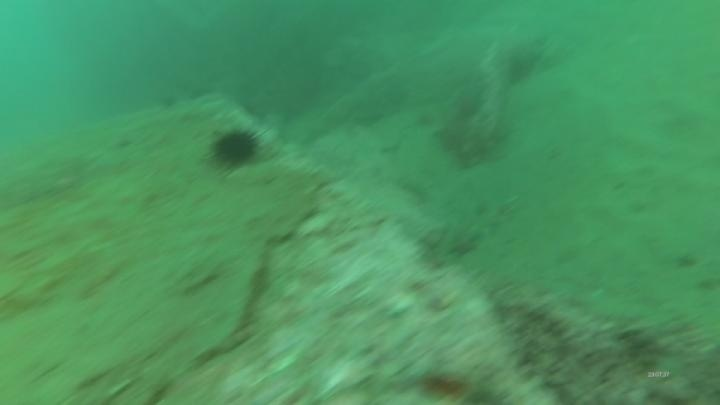echinus: (208, 124, 263, 171)
